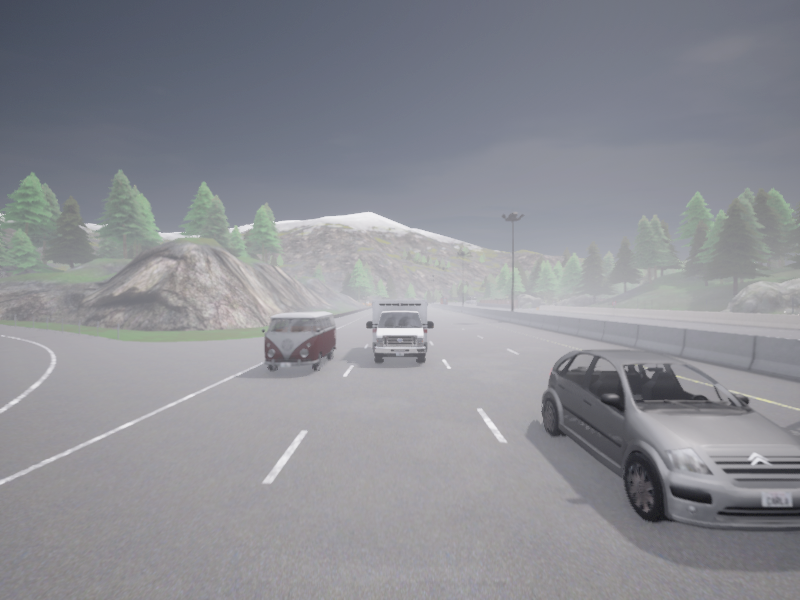vehicle: (541, 350, 799, 531), (262, 311, 335, 371), (366, 300, 433, 364), (466, 297, 477, 303), (440, 297, 447, 304)
